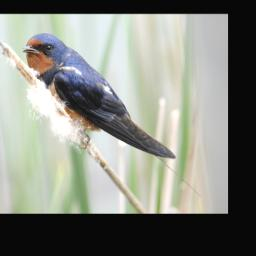Swallow: (21, 32, 177, 160)
